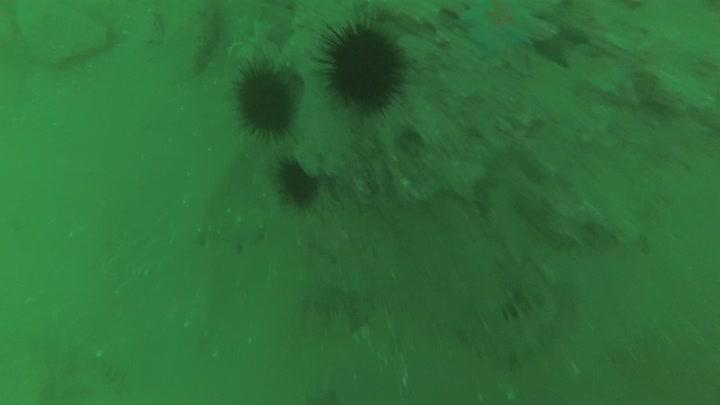urchin: (312, 18, 406, 121), (216, 57, 300, 146), (268, 156, 321, 213)
